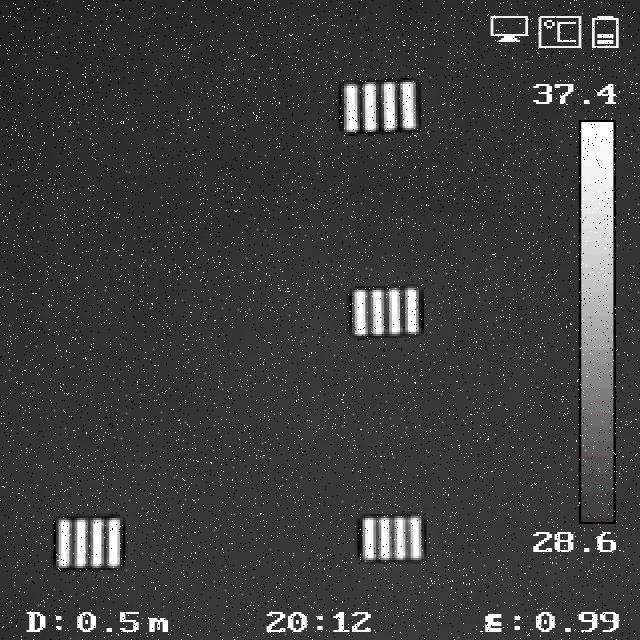Distinguishable 4-bar target: (340, 79, 421, 135), (53, 519, 124, 571), (352, 286, 423, 337), (363, 513, 424, 560)
